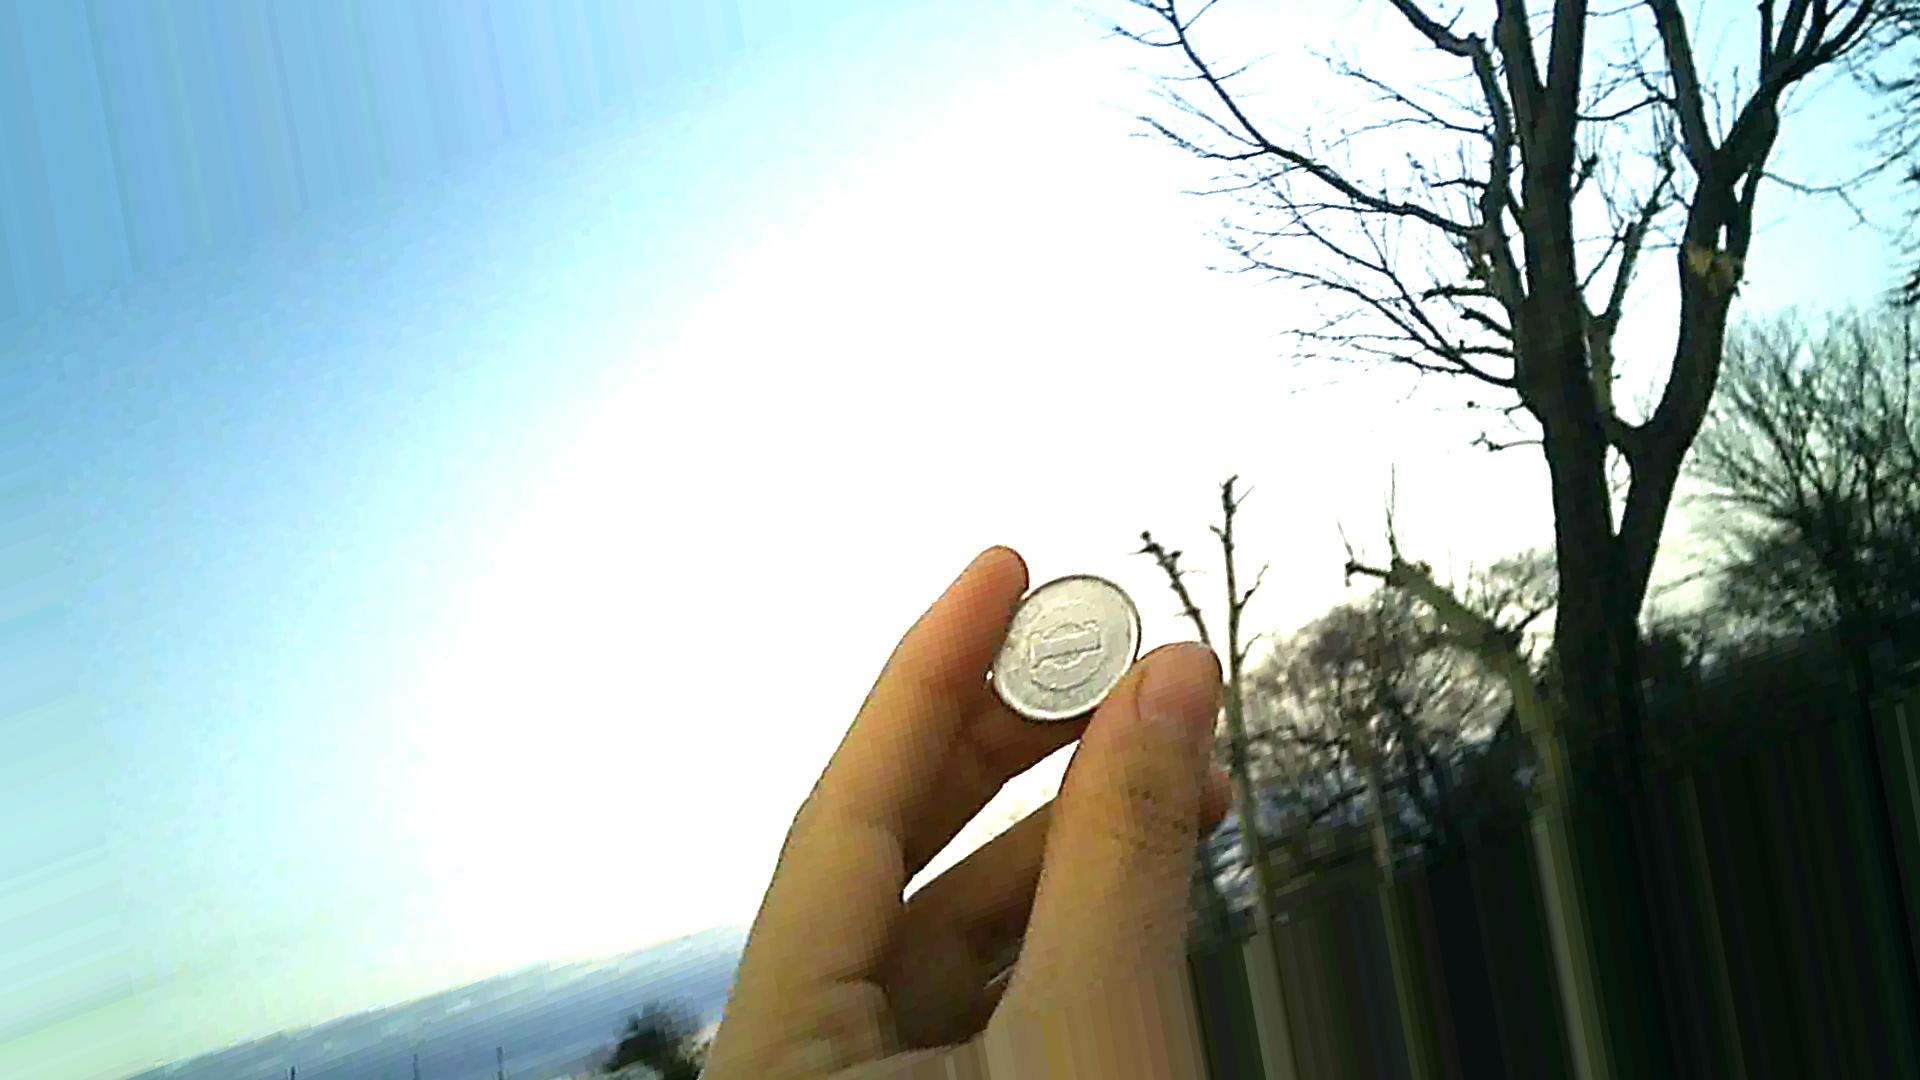1 Yen: (989, 558, 1160, 746)
